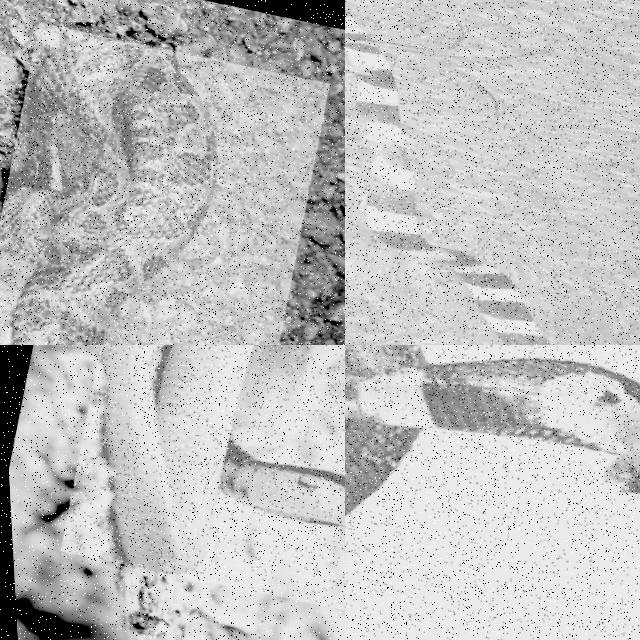Bungarus candidus: (345, 2, 556, 344)
Naja siamensis: (103, 345, 344, 570), (345, 345, 639, 513)
Ovophis monticola: (0, 37, 216, 344)
